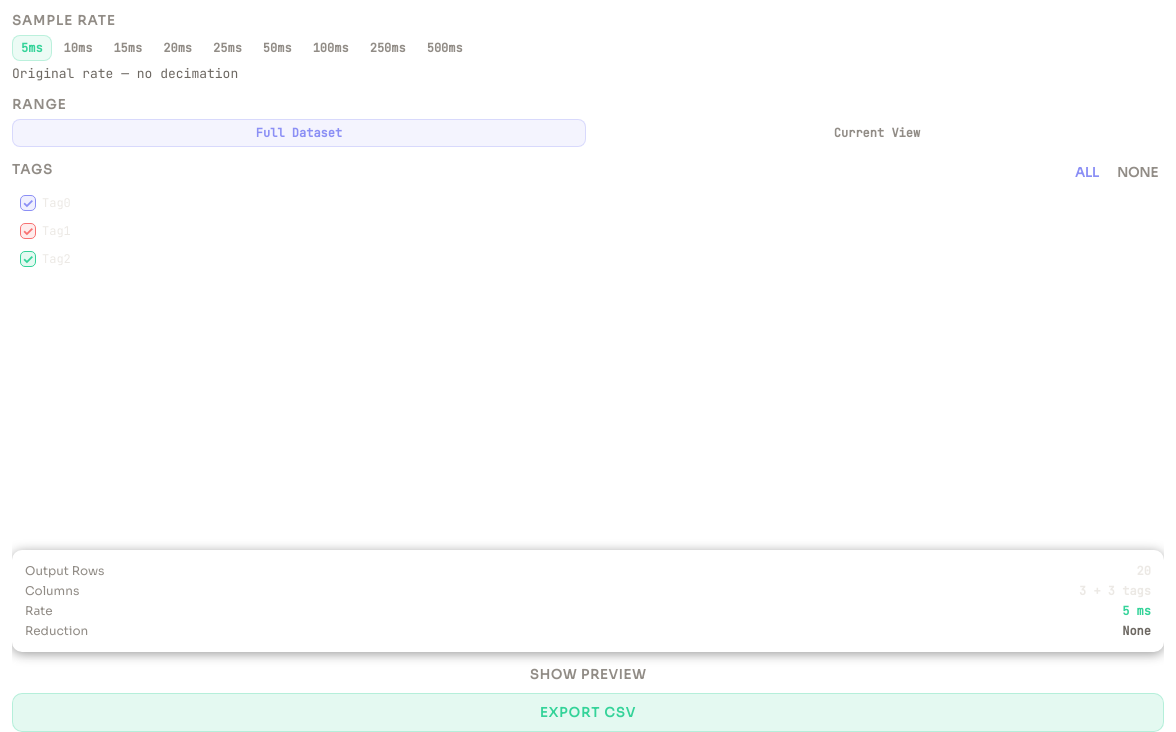
Scenario: ExportPanel › sample rate buttons change the rate display
The width and height of the screenshot is (1176, 732).
Click the button "10ms" at (78, 48), box x1=55 y1=35 x2=101 y2=61
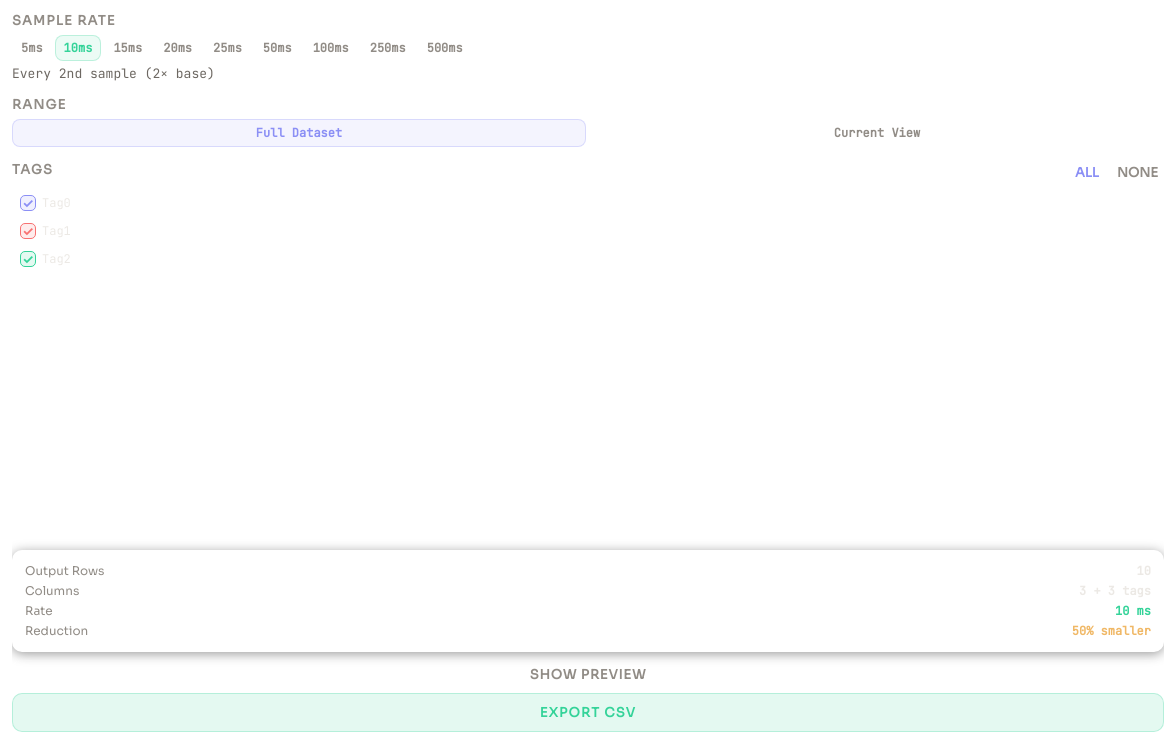
Check: the text "10 ms" is shown, box x1=1115 y1=603 x2=1151 y2=619
Check: the text "Every 2nd sample" is shown, box x1=12 y1=65 x2=215 y2=82
